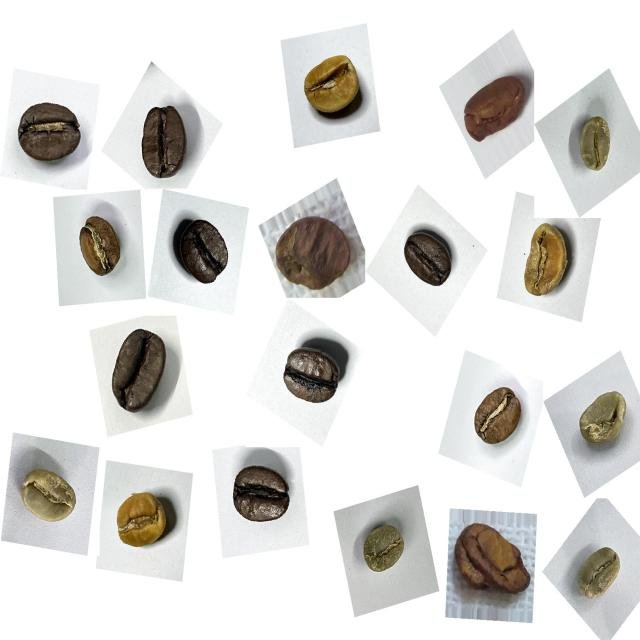bad: (268, 199, 362, 303), (448, 513, 540, 611), (453, 63, 536, 157)
dark: (98, 318, 178, 423), (10, 88, 92, 180), (165, 204, 239, 296), (272, 329, 348, 418), (225, 453, 301, 539), (129, 98, 197, 192), (395, 220, 460, 300)
green: (13, 453, 88, 537), (569, 377, 639, 462), (565, 534, 628, 613), (353, 508, 415, 588)
light: (292, 38, 374, 134), (101, 473, 182, 562), (511, 216, 585, 311), (562, 102, 621, 184)
medium: (463, 377, 530, 458), (68, 208, 132, 288)
